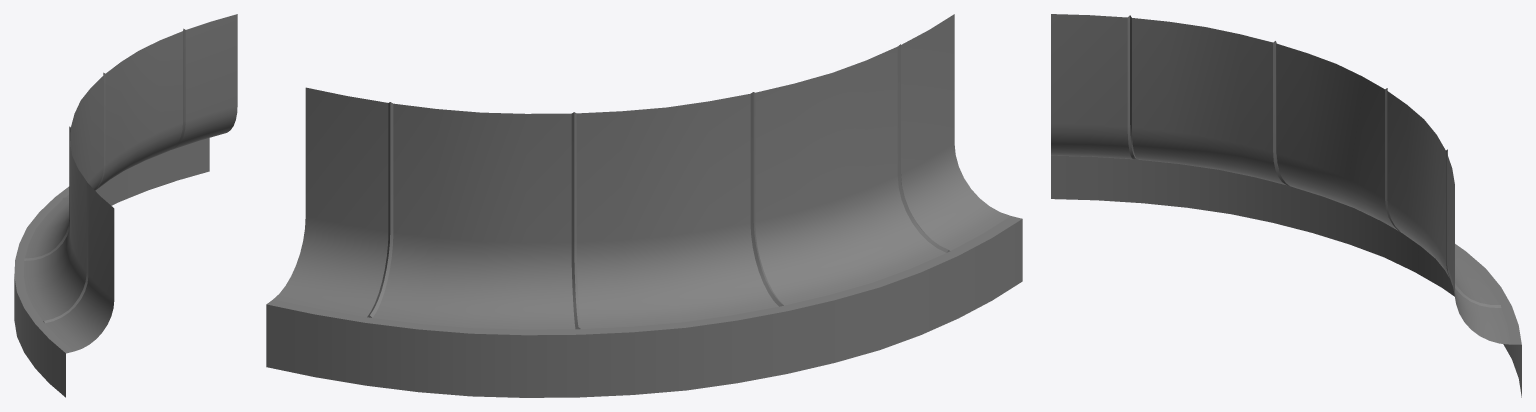
File: q-scifi-mod-topplastic-corner-round-inner.glb
3 renders of one model, left to right at view 1: azimuth 30°, elevation 25°; view 2: azimuth 150°, elevation 25°; view 3: azimuth 270°, elevation 25°, orthographic. The views are drawn at different scales.
Visible parts, largest first — view 1: TopPlastic_Corner_Round_Inner; view 2: TopPlastic_Corner_Round_Inner; view 3: TopPlastic_Corner_Round_Inner.
Part boxes in pixels (box(x1,y1,x2,y2)): TopPlastic_Corner_Round_Inner: box(14, 14, 237, 397); TopPlastic_Corner_Round_Inner: box(266, 14, 1022, 397); TopPlastic_Corner_Round_Inner: box(1051, 14, 1521, 397).
Bounding box in the file's own units: 4 × 2.02 × 4.
Materials: 3 (3 with a texture image).
